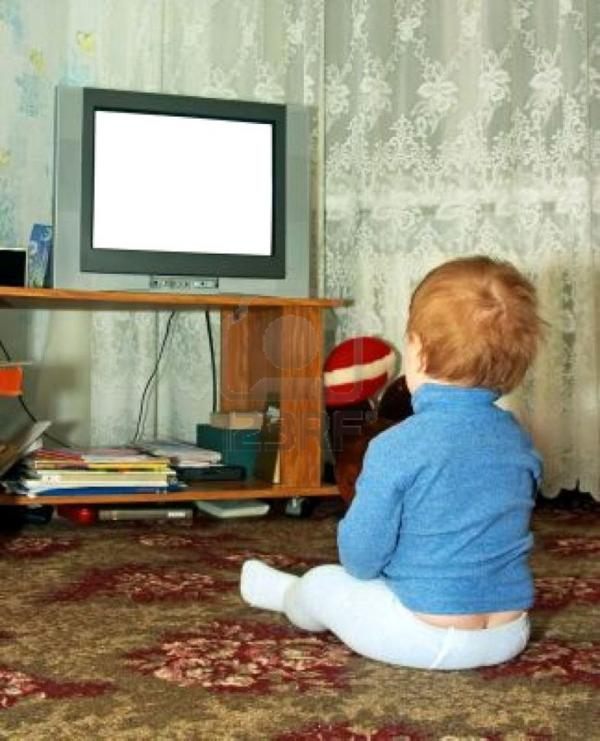person: (241, 257, 539, 677)
